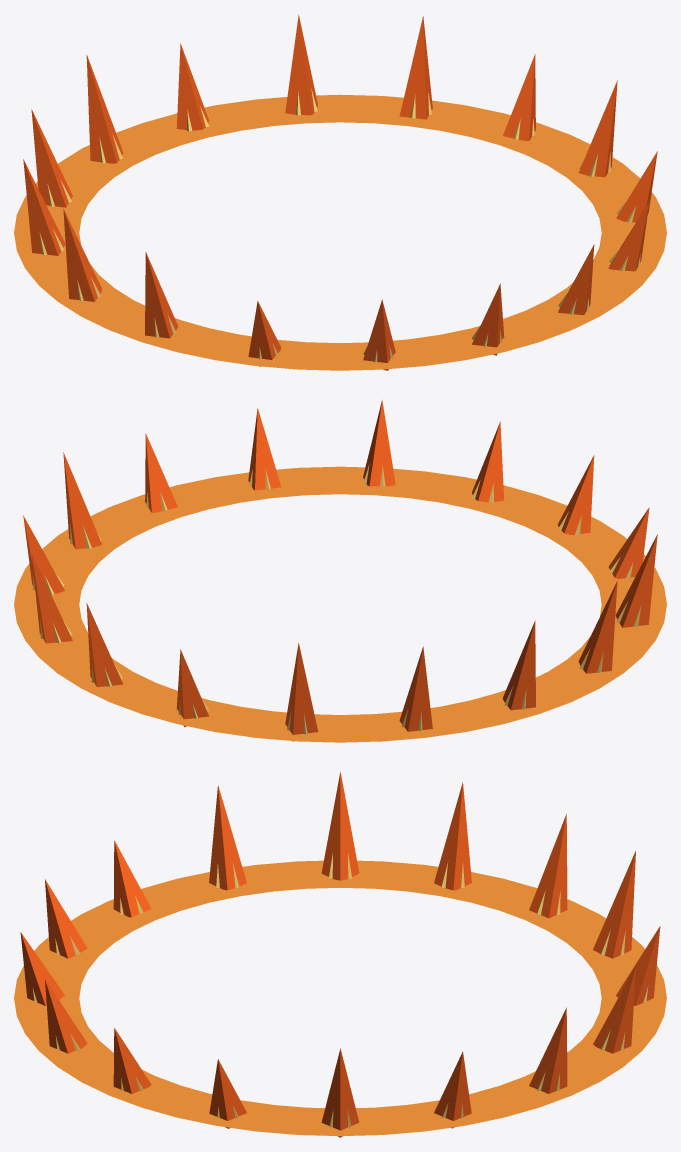
Rendered from pyro_burst.glb.
3 views of the same model, one above another, from view 1: azimuth 30°, elevation 25°; view 2: azimuth 150°, elevation 25°; view 3: azimuth 270°, elevation 25° (orthographic).
Visible parts, largest first — view 1: pyro_burst; view 2: pyro_burst; view 3: pyro_burst.
Boxes of the visible parts, x1,y1,x2,y2 form: pyro_burst: (14, 14, 666, 370); pyro_burst: (14, 400, 666, 742); pyro_burst: (14, 771, 666, 1137).
Size of the model in its own units: 2 by 0.3557 by 2.
1 material, 1 textured.
